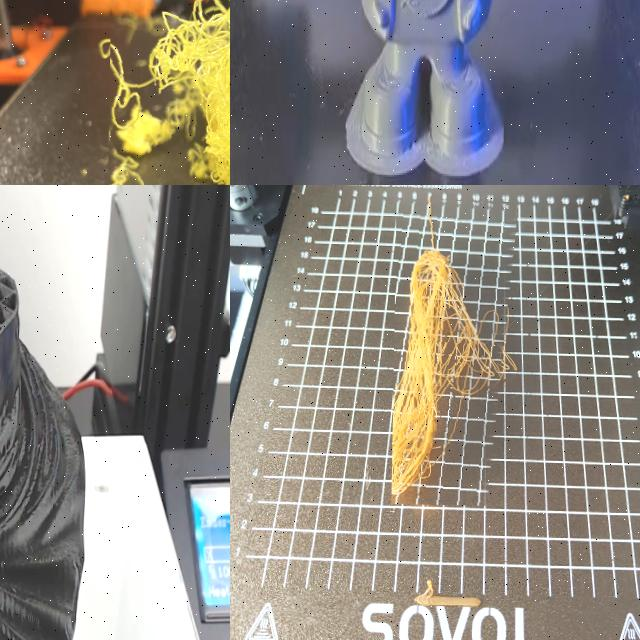spaghetti: (392, 195, 518, 506), (105, 0, 230, 185)
